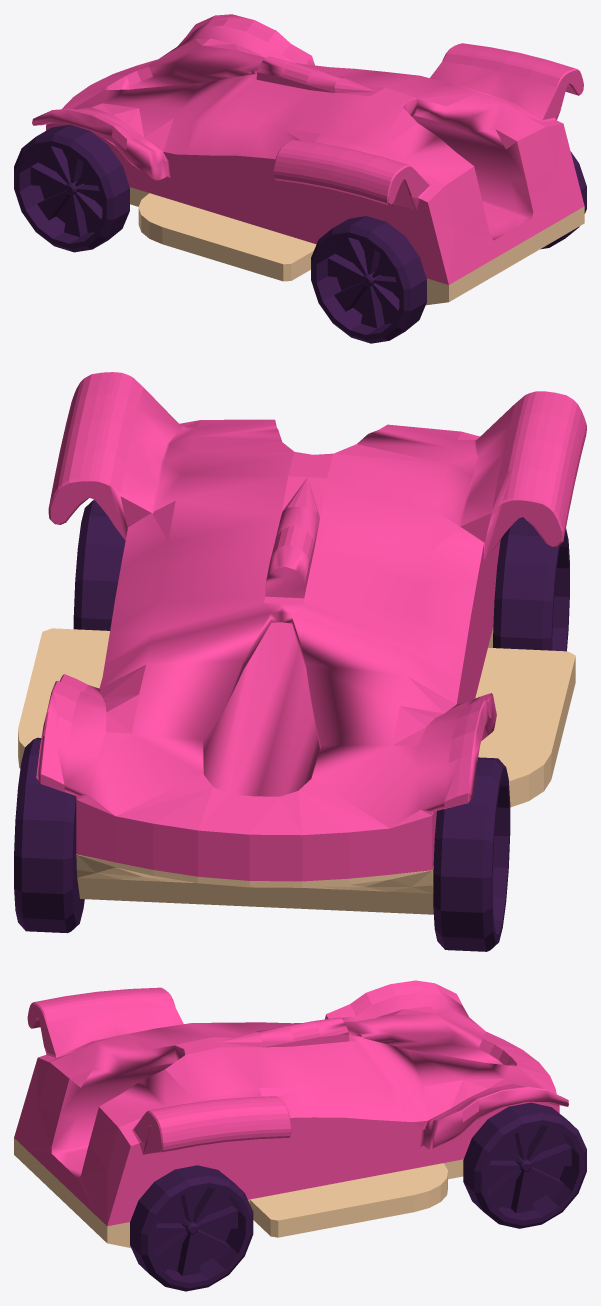
Rendered from ToyObject_064.fbx.
The picture shows the model from 3 angles, top to bottom: view 1: azimuth 30°, elevation 25°; view 2: azimuth 150°, elevation 25°; view 3: azimuth 270°, elevation 25°; orthographic projection. The views are drawn at different scales.
Visible parts, largest first — view 1: object-1.031; view 2: object-1.031; view 3: object-1.031.
Part boxes in pixels (x1,y1,x2,y2): object-1.031: (14, 14, 586, 343); object-1.031: (14, 372, 586, 951); object-1.031: (14, 980, 586, 1291).
Size of the model in its own units: 0.1388 by 0.0573 by 0.165.
